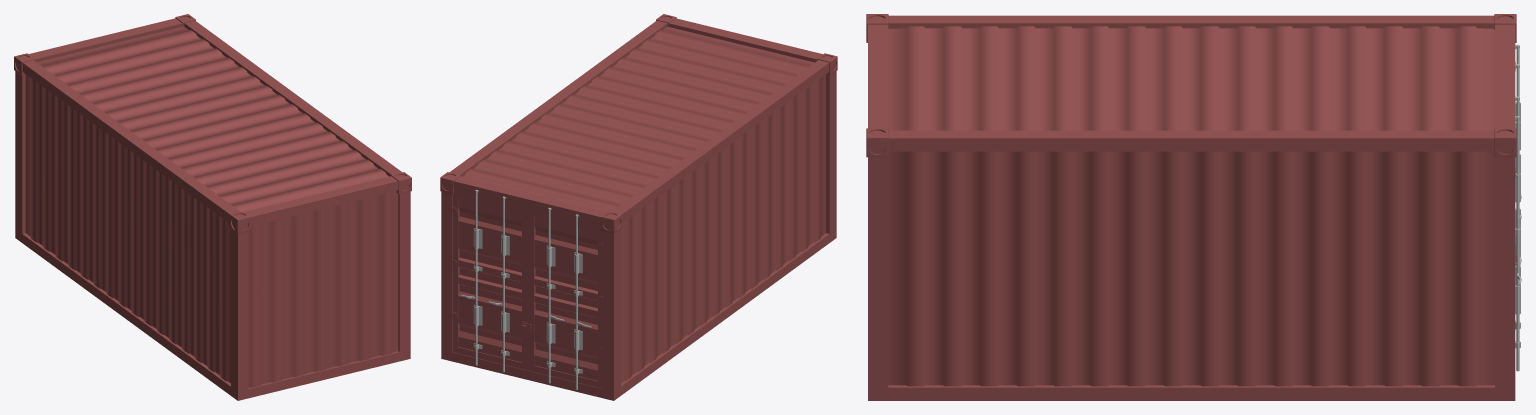
The model's file is ShippingContainer.glb.
3 renders of one model, left to right at view 1: azimuth 30°, elevation 25°; view 2: azimuth 150°, elevation 25°; view 3: azimuth 270°, elevation 25°, orthographic. The views are drawn at different scales.
Parts seen in each view (by area): view 1: SM_ShippingContainer; view 2: SM_ShippingContainer; view 3: SM_ShippingContainer.
Boxes of the visible parts, x1,y1,x2,y2 form: SM_ShippingContainer: (14, 14, 411, 400); SM_ShippingContainer: (440, 14, 837, 400); SM_ShippingContainer: (866, 14, 1521, 400).
Size of the model in its own units: 3.84 by 3.82 by 8.59.
